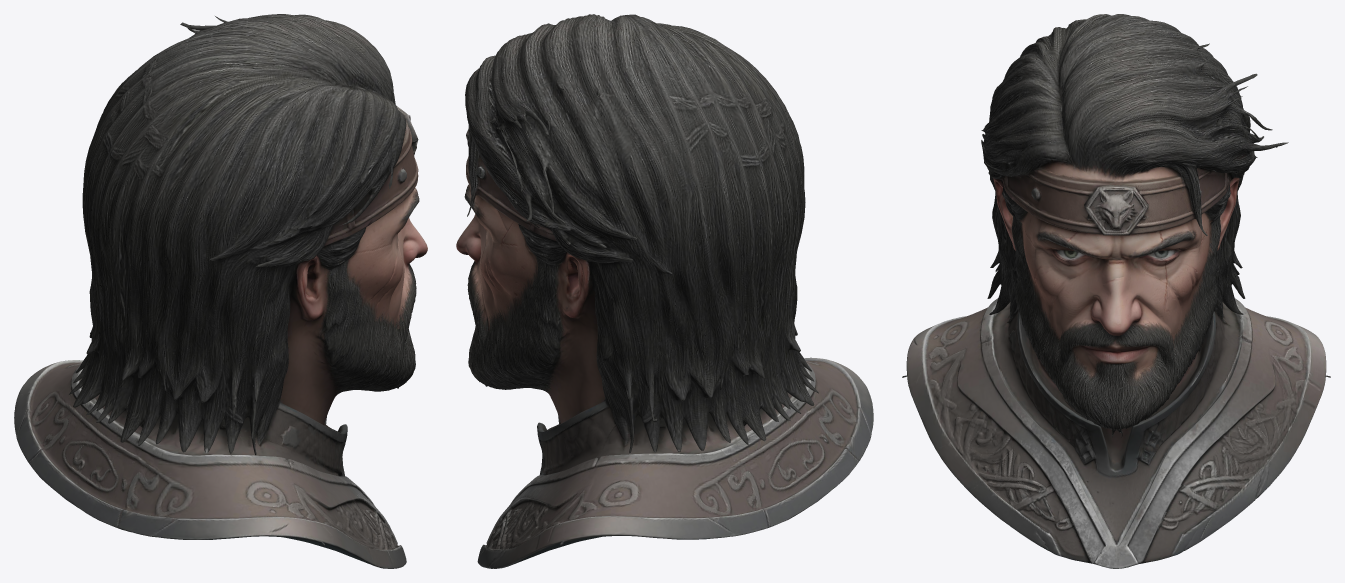
The model's file is Head_male1.glb.
The picture shows the model from 3 angles, left to right: view 1: azimuth 30°, elevation 25°; view 2: azimuth 150°, elevation 25°; view 3: azimuth 270°, elevation 25°; orthographic projection. The views are drawn at different scales.
Visible parts, largest first — view 1: tripo_node_03502f00-53cc-4d4f-bd1f-f688fb894389; view 2: tripo_node_03502f00-53cc-4d4f-bd1f-f688fb894389; view 3: tripo_node_03502f00-53cc-4d4f-bd1f-f688fb894389.
Part boxes in pixels (x1,y1,x2,y2): tripo_node_03502f00-53cc-4d4f-bd1f-f688fb894389: (14,14,427,568); tripo_node_03502f00-53cc-4d4f-bd1f-f688fb894389: (456,14,873,568); tripo_node_03502f00-53cc-4d4f-bd1f-f688fb894389: (902,14,1330,568).
Bounding box in the file's own units: 0.6957 × 0.9999 × 0.8055.
1 material, 1 textured.
